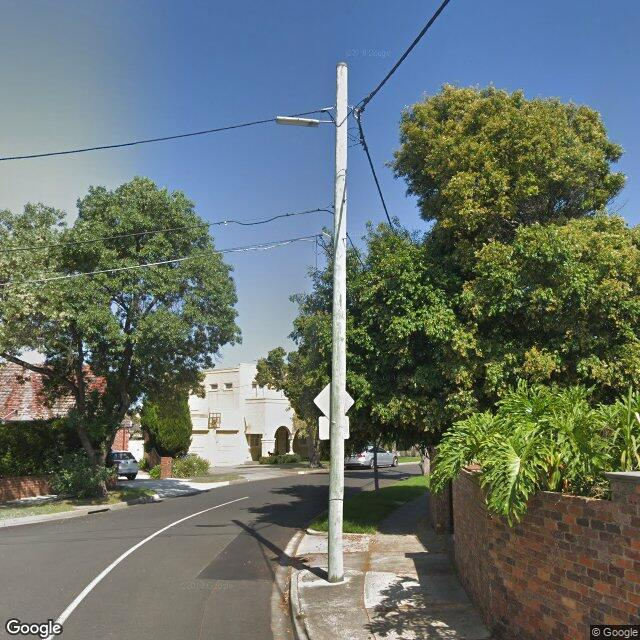streetlight: (276, 116, 336, 128)
timber-pole: (327, 63, 349, 583)
